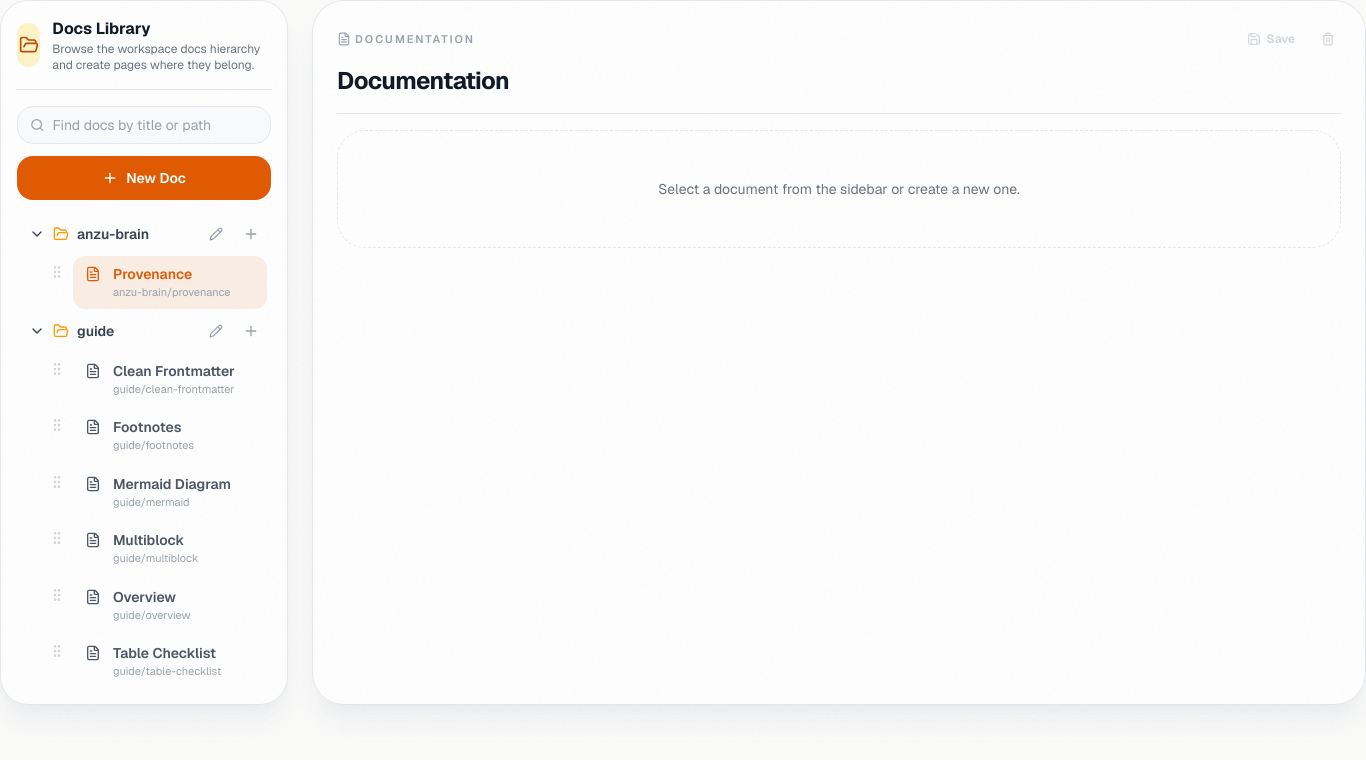
DocsScreen markdown round-trip fidelity (FLUX-1654) › opens a doc with clean front matter in Rich text mode, with a collapsed front-matter strip
The image size is (1366, 760).
Expected: the text "Provenance" is shown, [113,265,192,283]
Click the text "Clean Frontmatter".
click(174, 370)  # box [113,360,235,380]
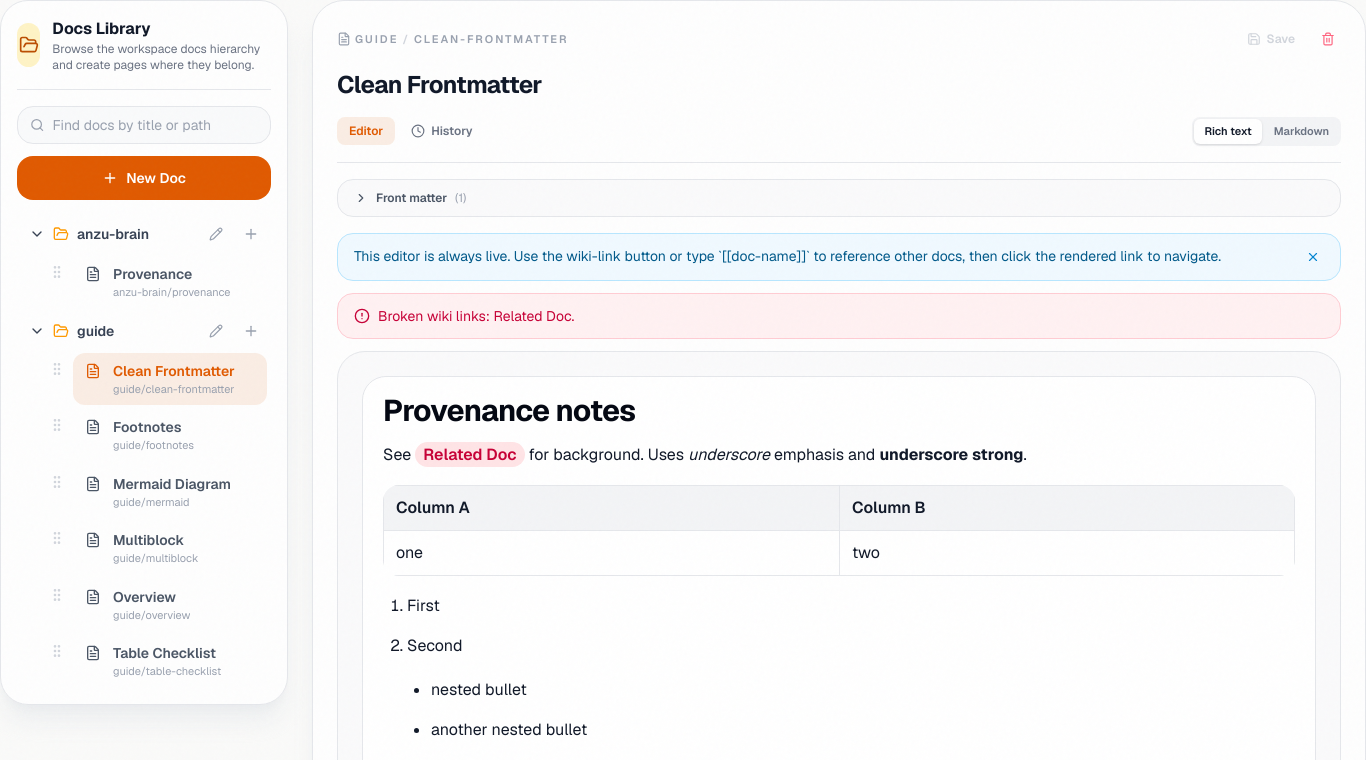
Expected: the text "team-docs" is not shown
Click the button "Front matter (1)".
click(412, 198)  # box [338,180,1340,216]
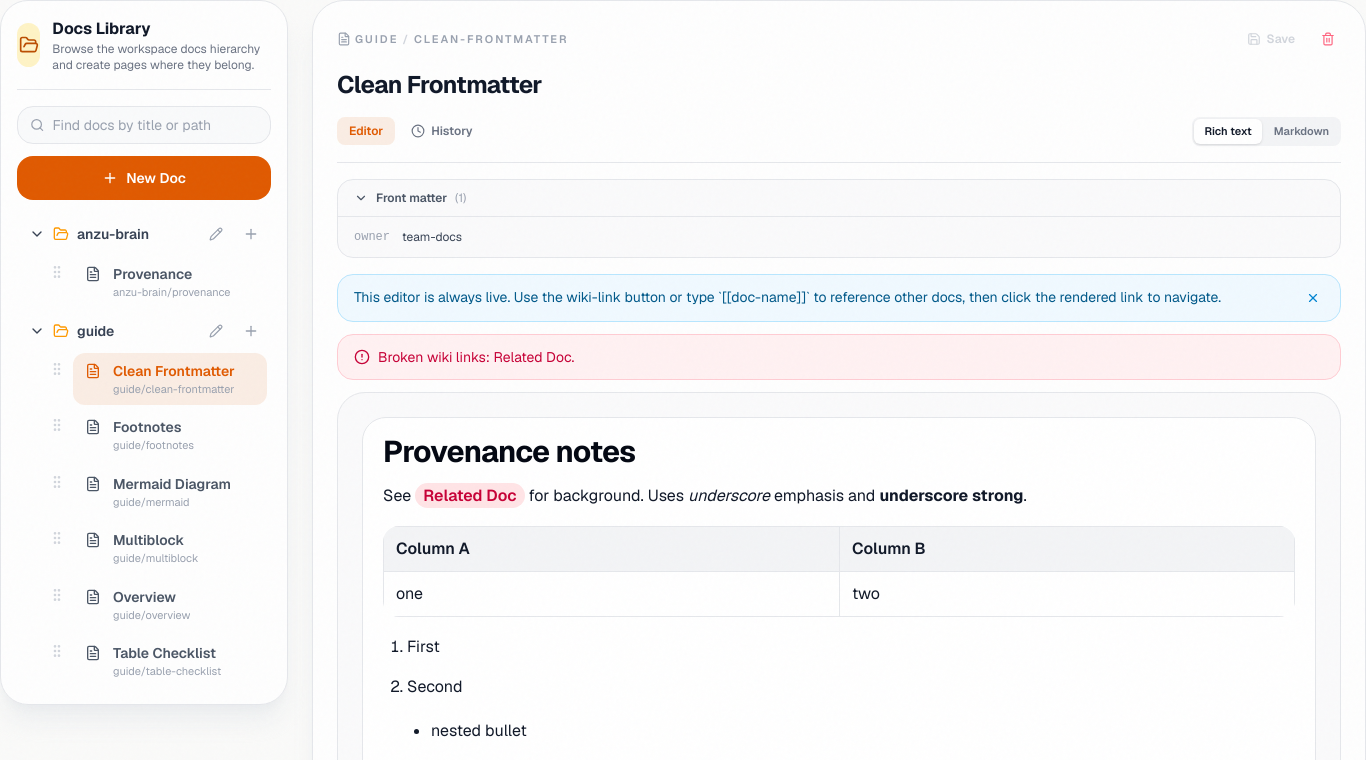
Result: the text "team-docs" is shown at [402,228,462,244]
